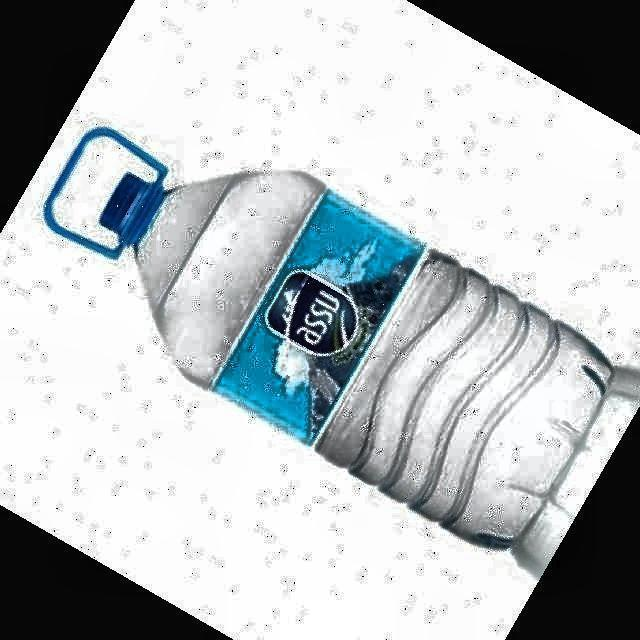plastic: (46, 129, 614, 544)
